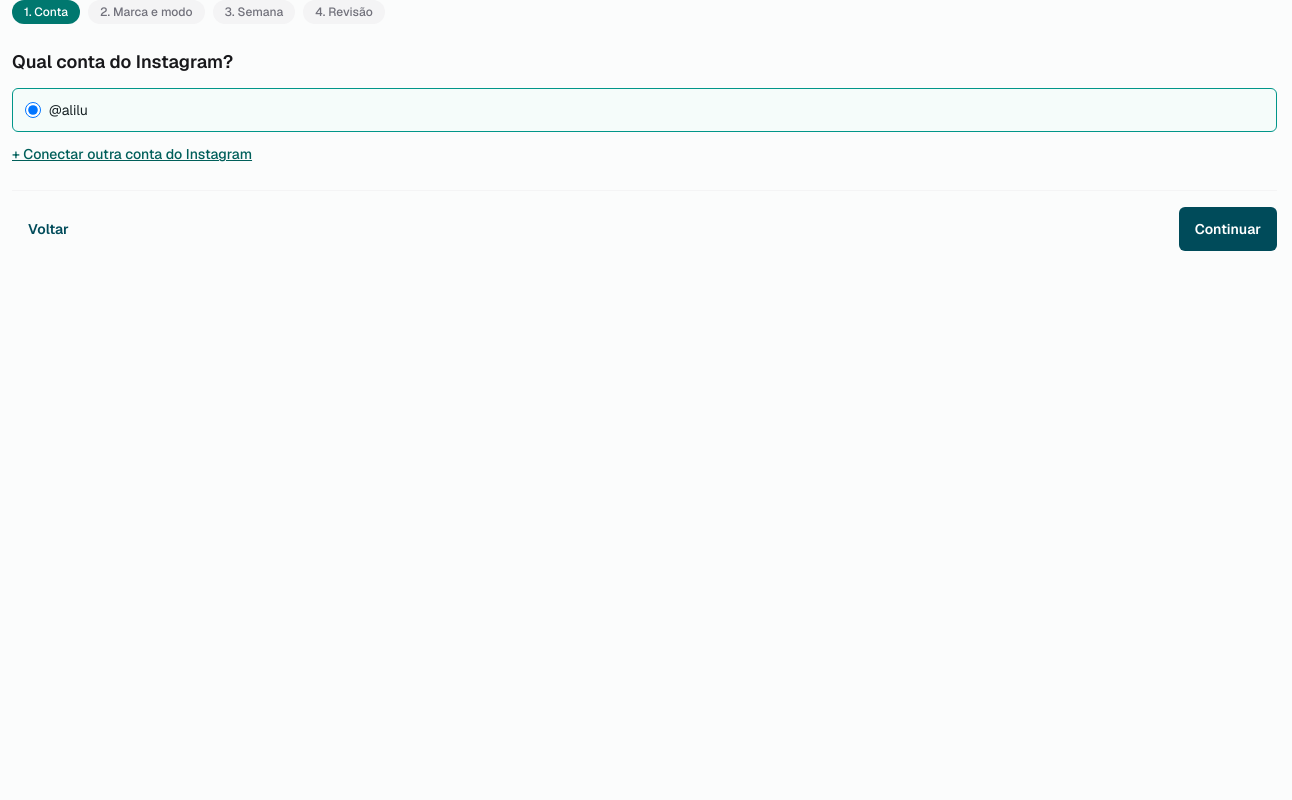
Test case: AutomationWizard — Prompt único recorrente › no modo Personalizado por dia o fluxo antigo continua (sem update-shared)
The image size is (1292, 800).
Click the button "Continuar" at (1228, 229), box [1179,207,1277,251]
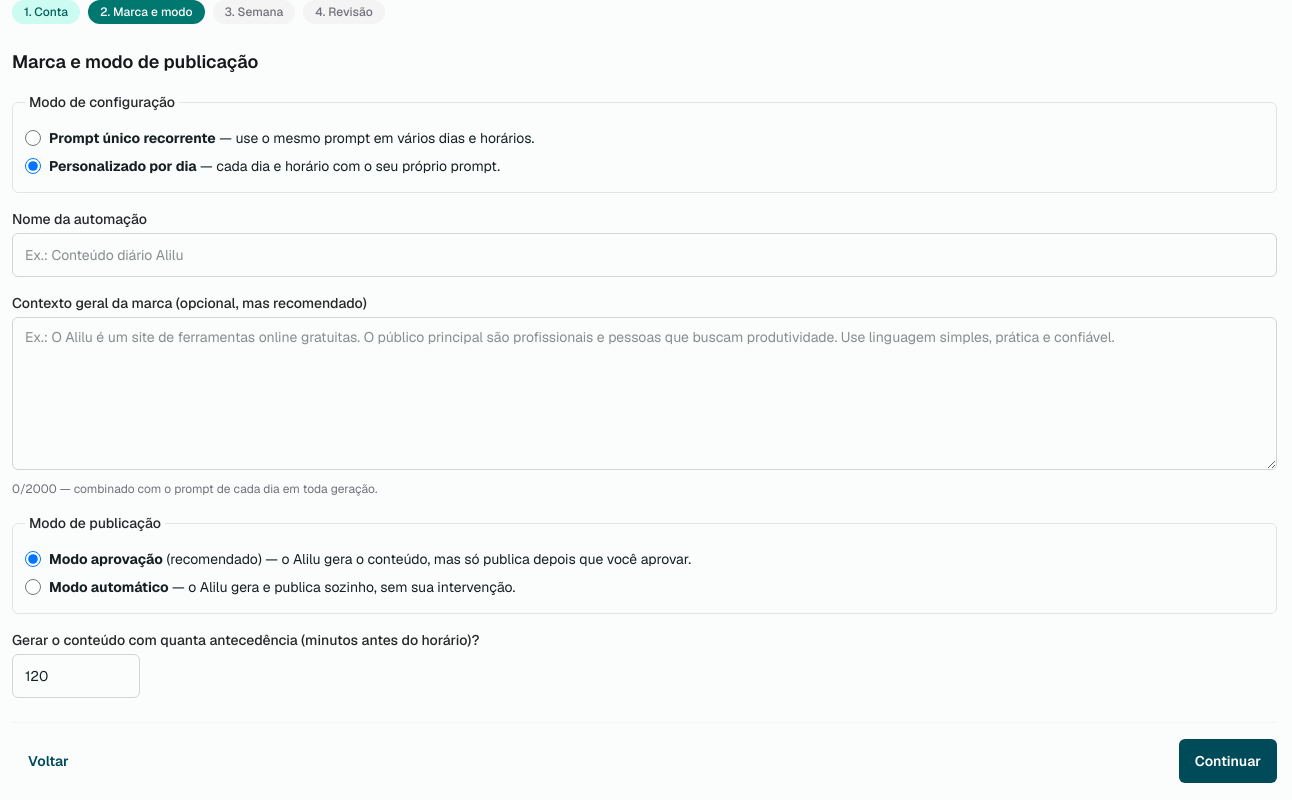
Result: the radio button labelled "Personalizado por dia" is checked at [25,158,41,174]
Type "X" into the field labelled "Nome da automação" at (644, 255), box [12,233,1277,277]
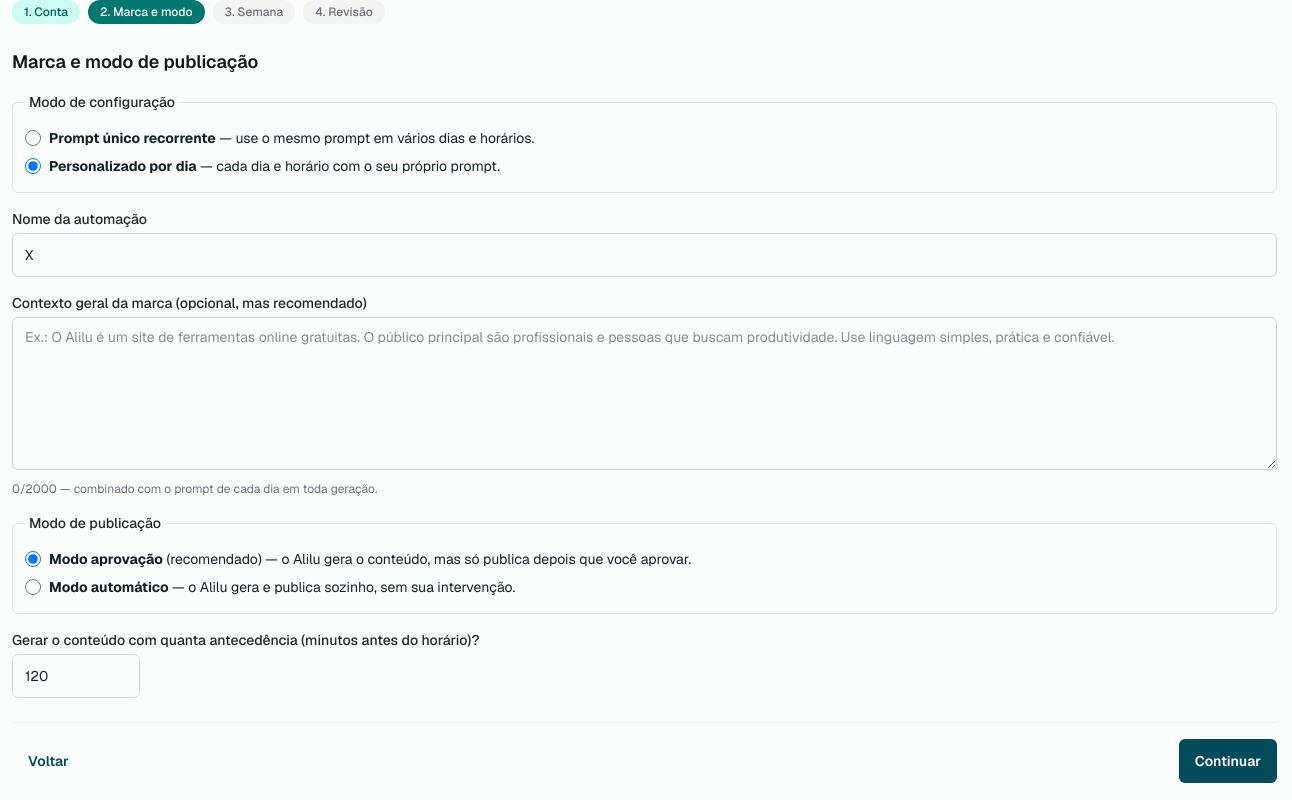
Click the button "Continuar" at (1228, 761), box [1179,739,1277,783]
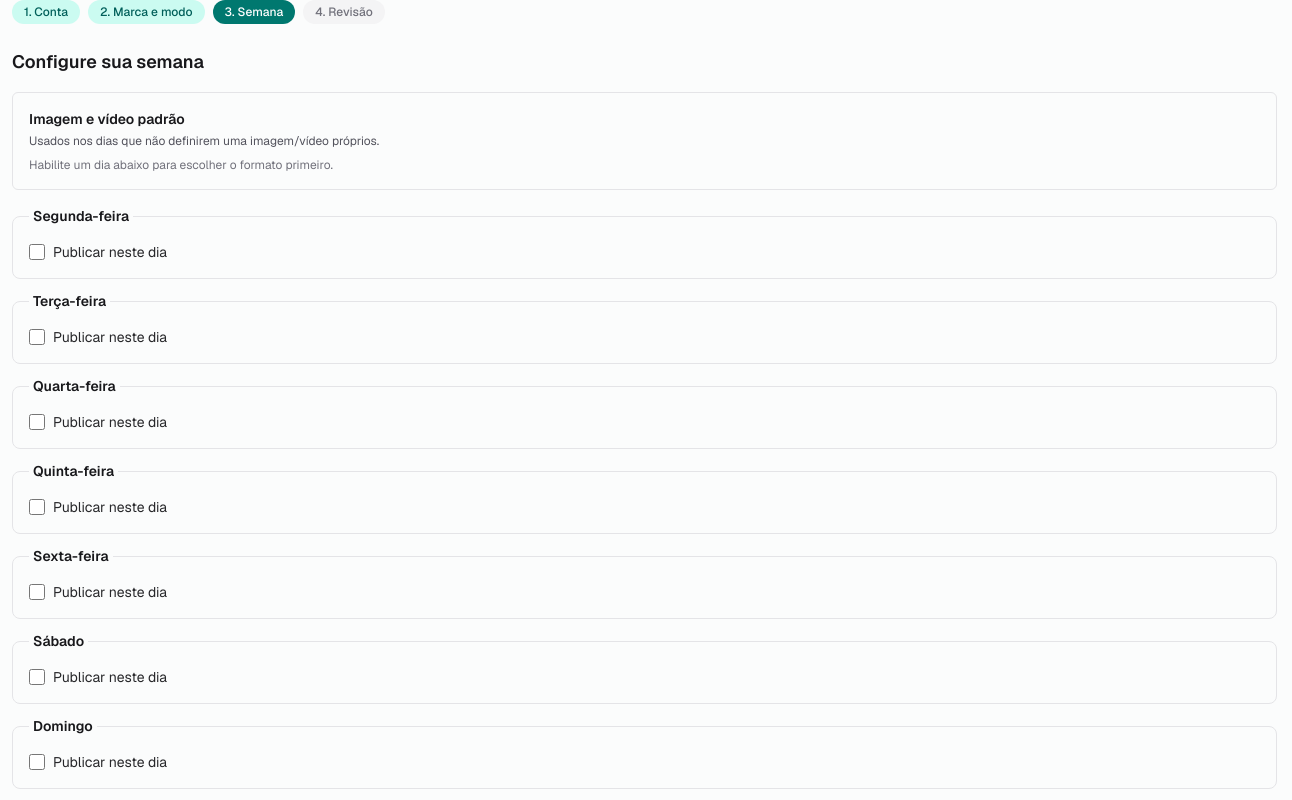
Result: the heading "Configure sua semana" is shown at [12,50,204,73]
